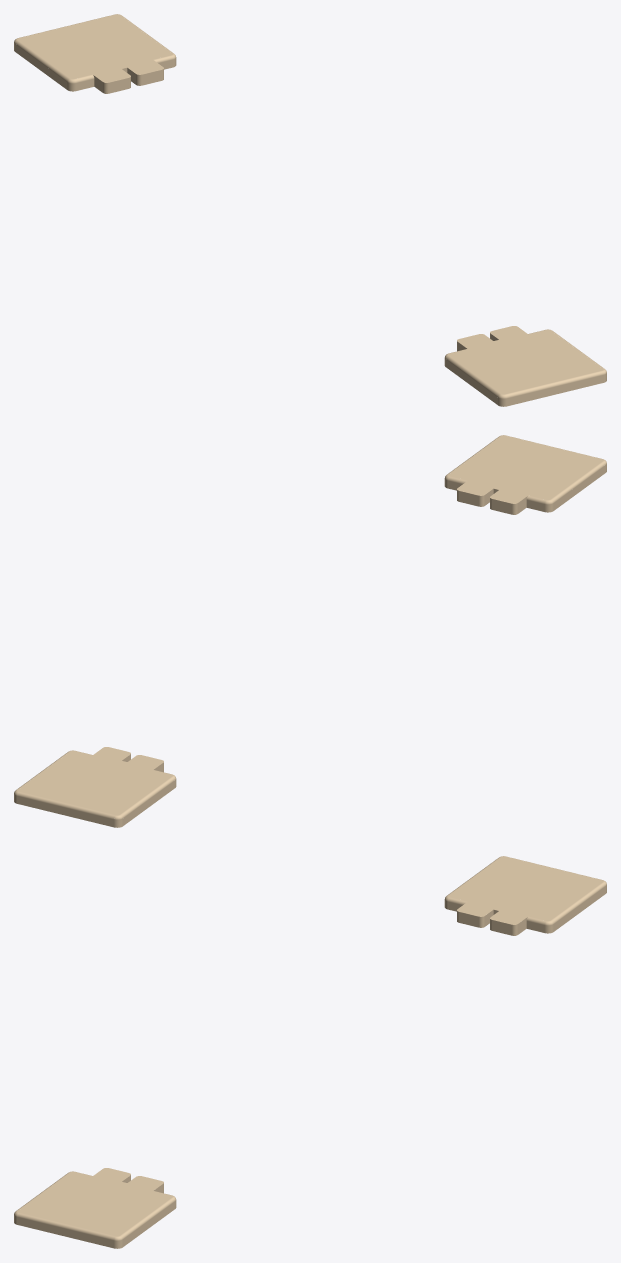
Rendered from ergoflex-side-shelf-small-pair.glb.
The picture shows the model from 3 angles, top to bottom: view 1: azimuth 30°, elevation 25°; view 2: azimuth 150°, elevation 25°; view 3: azimuth 330°, elevation 25°; orthographic projection.
Parts seen in each view (by area): view 1: Side shelf wood; view 2: Side shelf wood; view 3: Side shelf wood.
Part boxes in pixels (<box>): Side shelf wood: <box>14,14,606,406</box>; Side shelf wood: <box>14,435,606,827</box>; Side shelf wood: <box>14,856,606,1248</box>.
Bounding box in the file's own units: 0.1827 × 0.0178 × 1.43.
